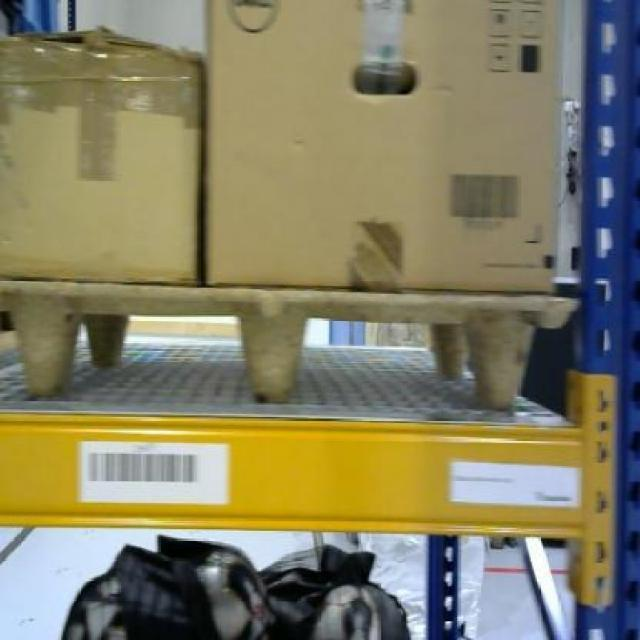box: (201, 0, 564, 278), (0, 32, 208, 280)
